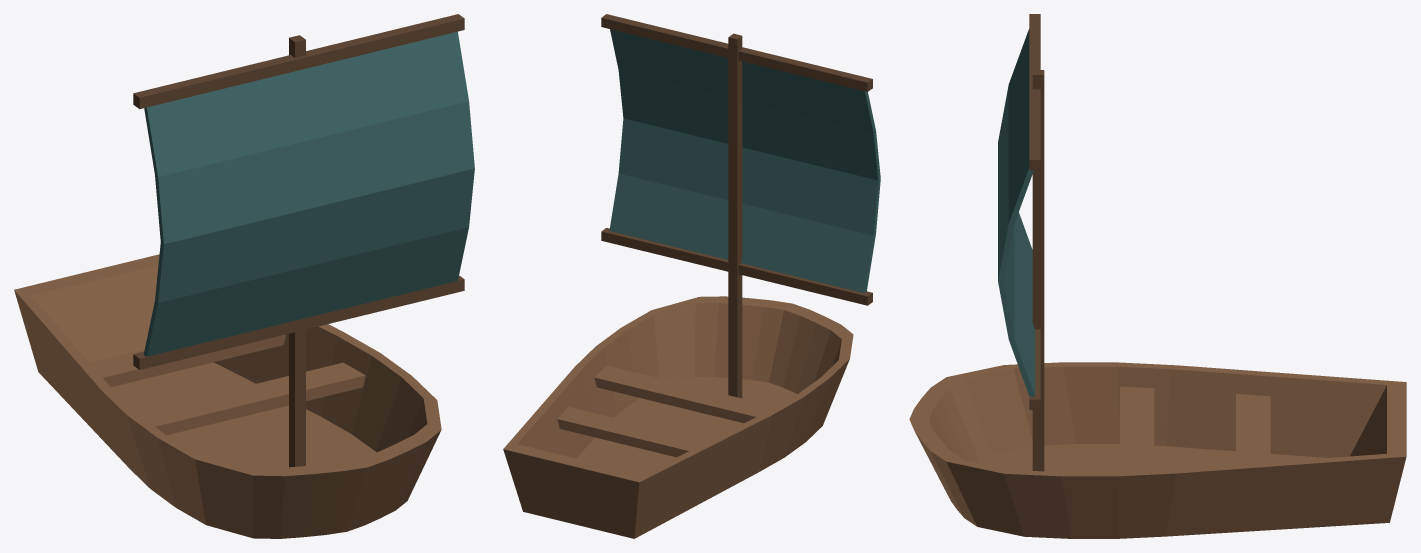
Rendered from Boat_2_Light_Brown.fbx.
3 renders of one model, left to right at view 1: azimuth 30°, elevation 25°; view 2: azimuth 150°, elevation 25°; view 3: azimuth 270°, elevation 25°, orthographic. The views are drawn at different scales.
Visible parts, largest first — view 1: Boat_2_Light_Brown_Part_2, Boat_2_Light_Brown_Part_1; view 2: Boat_2_Light_Brown_Part_2, Boat_2_Light_Brown_Part_1; view 3: Boat_2_Light_Brown_Part_1, Boat_2_Light_Brown_Part_2.
Boxes of the visible parts, box(x1,y1,x2,y2) form: Boat_2_Light_Brown_Part_2: box(133, 14, 474, 467); Boat_2_Light_Brown_Part_1: box(14, 254, 441, 538); Boat_2_Light_Brown_Part_2: box(601, 14, 880, 398); Boat_2_Light_Brown_Part_1: box(503, 296, 853, 538); Boat_2_Light_Brown_Part_1: box(909, 362, 1406, 538); Boat_2_Light_Brown_Part_2: box(998, 14, 1044, 471).
Size of the model in its own units: 390 by 523 by 562.
